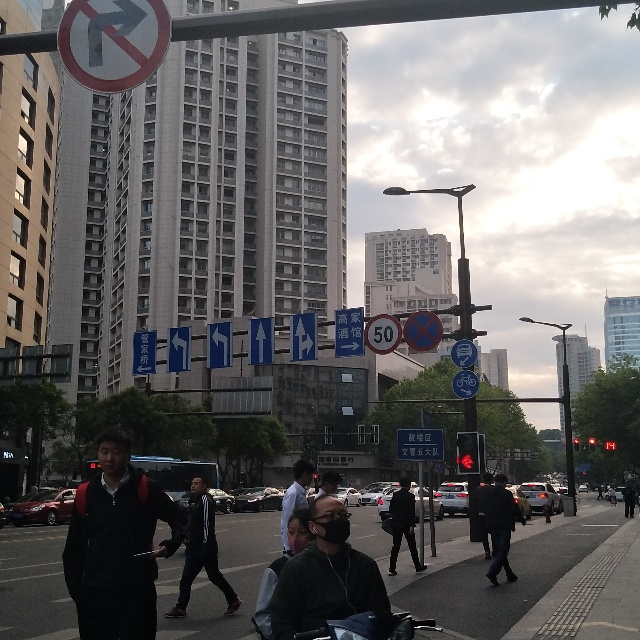left: (164, 328, 191, 372), (213, 322, 233, 366)
straight: (253, 316, 272, 371)
